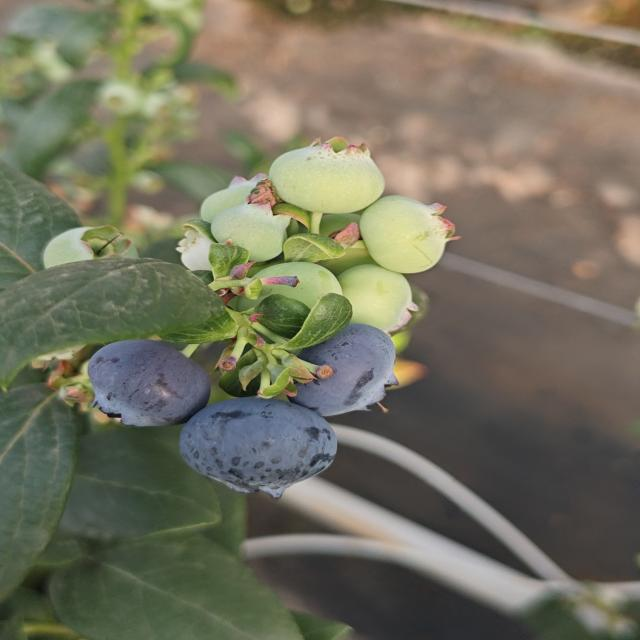ripe: (177, 395, 340, 500), (84, 337, 212, 429), (280, 321, 400, 419)
